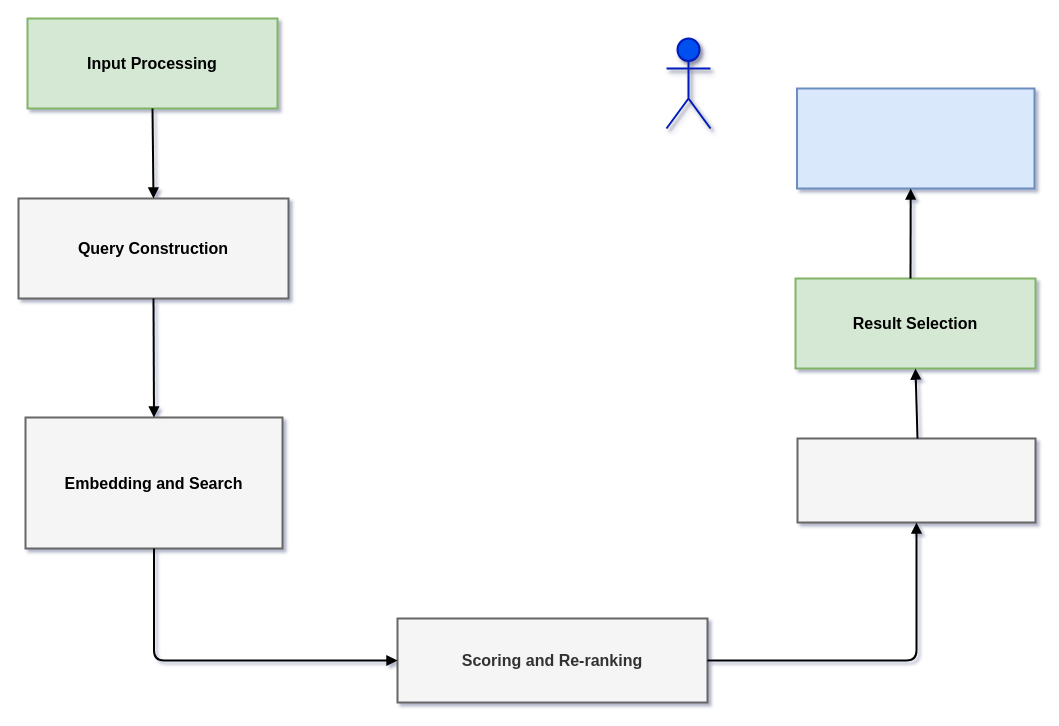
Some shapes in this 1059 by 726 pixel diagram are drawn without their labels. The centre of each missing label's shape, as x and y in pixels:
"Health-Based Filtering" belongs at pixel 916 480.
"Recommendations" belongs at pixel 915 138.
"User" belongs at pixel 689 84.
